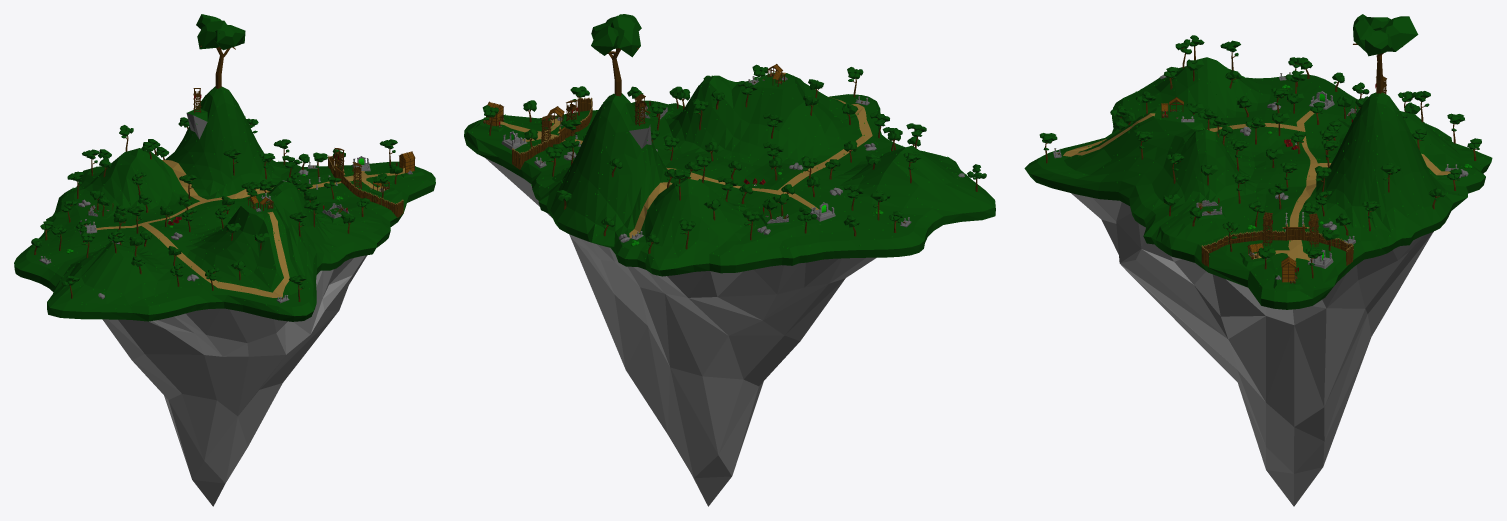
File: Islands_1.fbx
3 renders of one model, left to right at view 1: azimuth 30°, elevation 25°; view 2: azimuth 150°, elevation 25°; view 3: azimuth 270°, elevation 25°, orthographic. The views are drawn at different scales.
Parts seen in each view (by area): view 1: Island 2, Trees.001; view 2: Island 2, Trees.001; view 3: Island 2, Trees.001.
Boxes of the visible parts, x1=… form: Island 2: x1=14, y1=86, x2=435, y2=506; Trees.001: x1=196, y1=14, x2=245, y2=88; Island 2: x1=464, y1=64, x2=995, y2=506; Trees.001: x1=591, y1=14, x2=641, y2=96; Island 2: x1=1024, y1=57, x2=1492, y2=506; Trees.001: x1=1353, y1=14, x2=1418, y2=93.
Size of the model in its own units: 17328 by 17507 by 14408.
